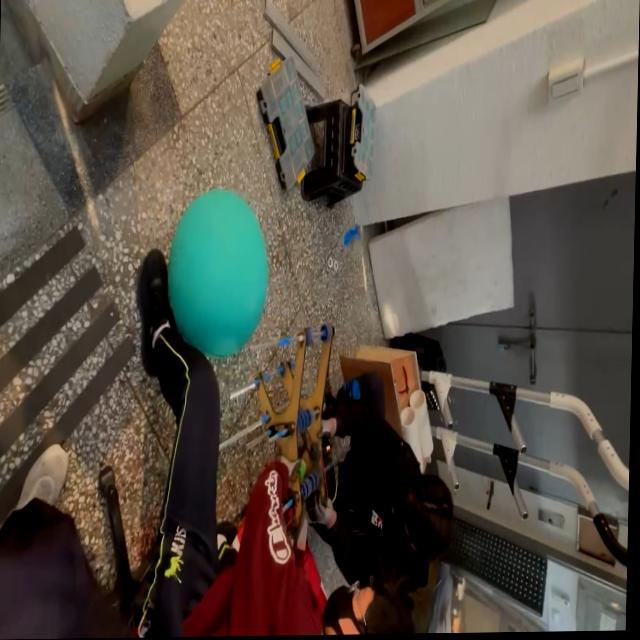ALGAE: (165, 185, 271, 360)
